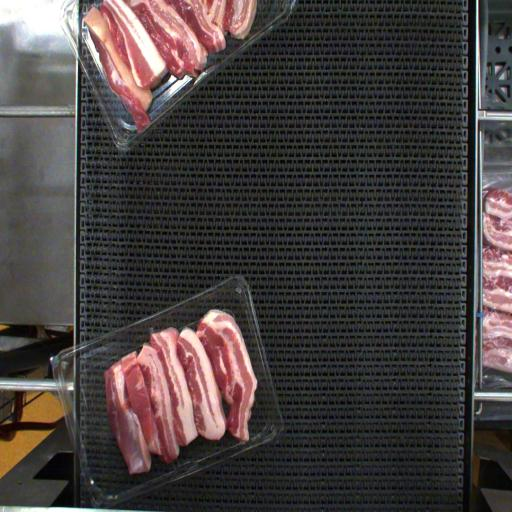twisted-meat: (109, 355, 162, 466)
